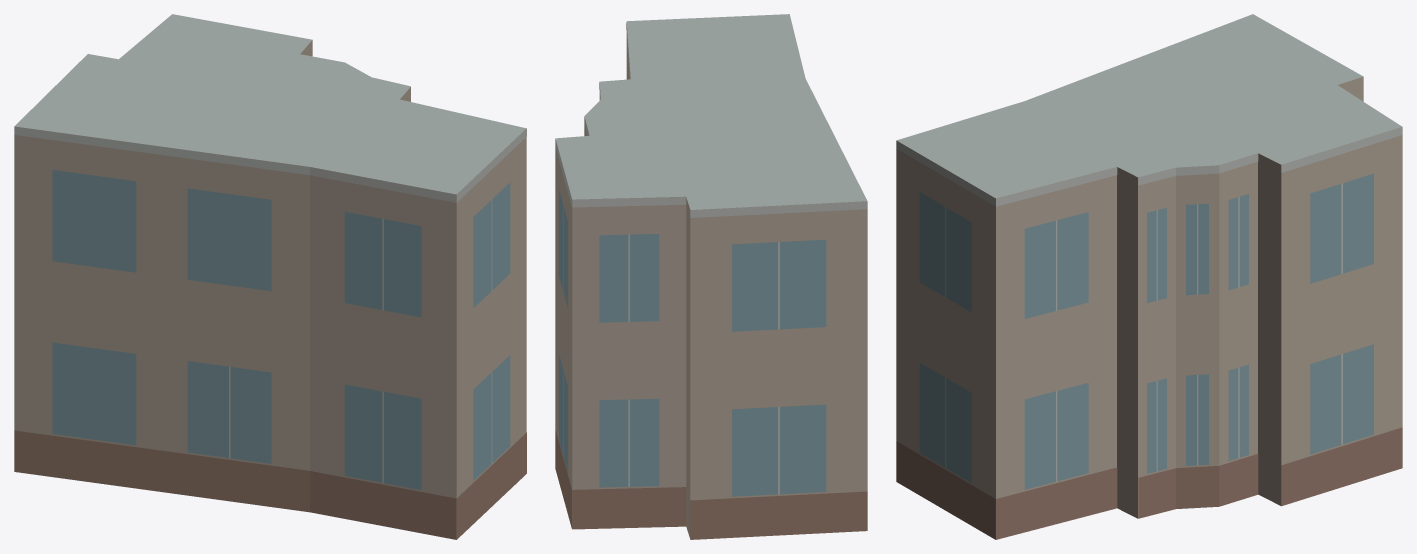
The model's file is survey-upis-32506479.glb.
The picture shows the model from 3 angles, left to right: view 1: azimuth 30°, elevation 25°; view 2: azimuth 150°, elevation 25°; view 3: azimuth 270°, elevation 25°; orthographic projection. The views are drawn at different scales.
Parts seen in each view (by area): view 1: survey-upis-32506479.tmp; view 2: survey-upis-32506479.tmp; view 3: survey-upis-32506479.tmp.
Boxes of the visible parts, x1,y1,x2,y2 form: survey-upis-32506479.tmp: (14,14,526,539); survey-upis-32506479.tmp: (555,14,867,539); survey-upis-32506479.tmp: (896,14,1402,539).
Size of the model in its own units: 11.71 by 10.1 by 13.58.
